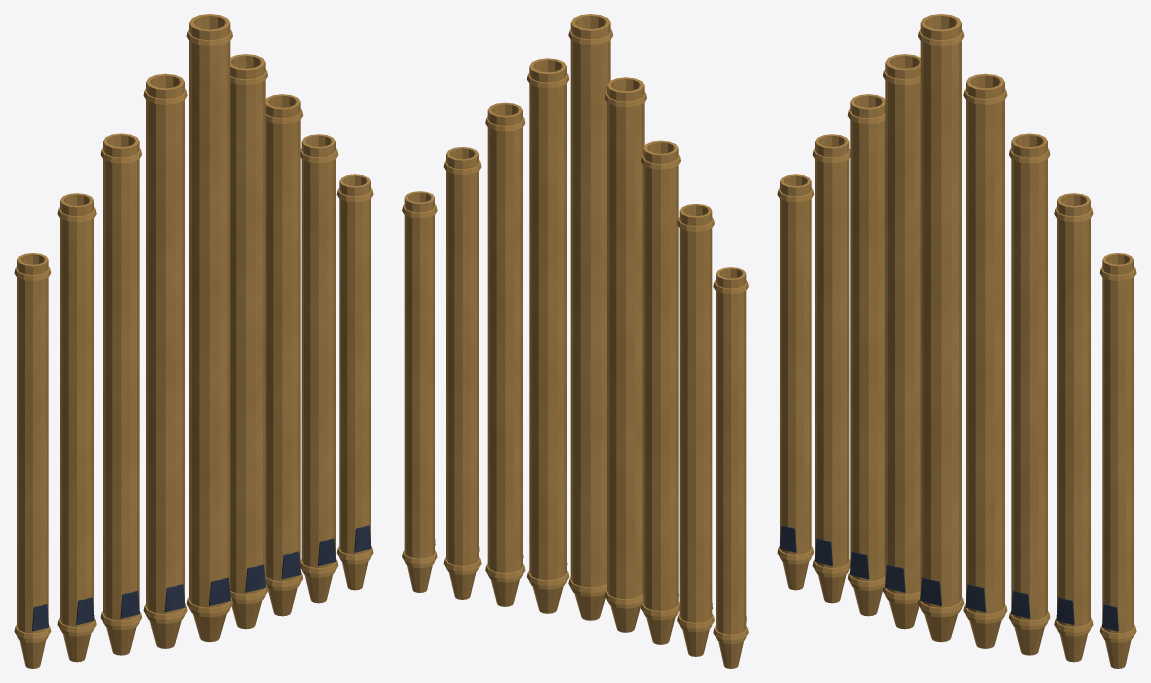
File: SM_Theater_Organ_PipesCenter.fbx
The picture shows the model from 3 angles, left to right: view 1: azimuth 30°, elevation 25°; view 2: azimuth 150°, elevation 25°; view 3: azimuth 330°, elevation 25°; orthographic projection. The views are drawn at different scales.
Parts seen in each view (by area): view 1: SM_Theater_Organ_PipesCenter_LOD0; view 2: SM_Theater_Organ_PipesCenter_LOD0; view 3: SM_Theater_Organ_PipesCenter_LOD0.
Boxes of the visible parts, left/top/right/bottom form: SM_Theater_Organ_PipesCenter_LOD0: left=14, top=14, right=373, bottom=668; SM_Theater_Organ_PipesCenter_LOD0: left=402, top=14, right=748, bottom=668; SM_Theater_Organ_PipesCenter_LOD0: left=777, top=14, right=1136, bottom=668.
Size of what is drawn, in the model's own units: 4.57 by 7.59 by 0.8195.
